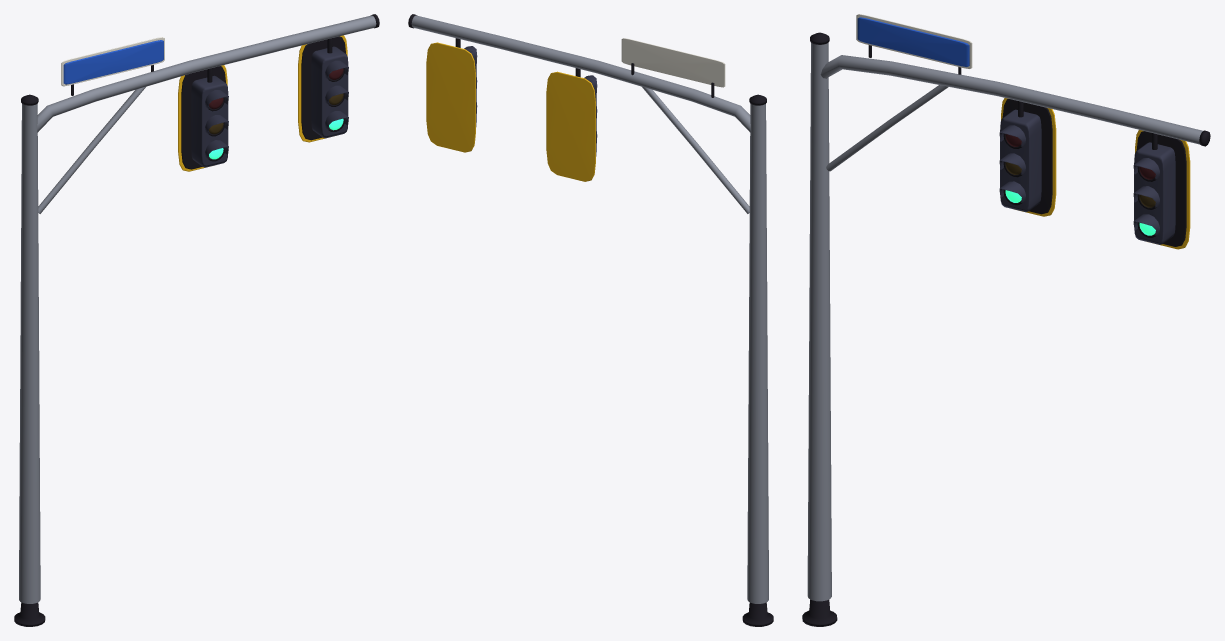
File: ampel_mast.glb
The picture shows the model from 3 angles, left to right: view 1: azimuth 30°, elevation 25°; view 2: azimuth 150°, elevation 25°; view 3: azimuth 330°, elevation 25°; orthographic projection. The views are drawn at different scales.
Parts seen in each view (by area): view 1: Pole_1, Arm, StreetSign_Face, Head2_Housing, Head1_Housing, Head2_Backplate, Head1_Backplate, Strut, StreetSign_Border, PoleBase; view 2: Pole_1, Head1_BackBorder, Head2_BackBorder, Arm, StreetSign_Border, Strut, PoleBase; view 3: Pole_1, Arm, StreetSign_Face, Head2_Housing, Head1_Housing, Head2_Backplate, Head1_Backplate, Strut, StreetSign_Border, PoleBase, Head2_BackBorder, Head1_BackBorder.
Boxes of the visible parts, x1,y1,x2,y2 form: Pole_1: (19, 104, 40, 603); Arm: (37, 15, 376, 132); StreetSign_Face: (63, 40, 163, 84); Head2_Housing: (311, 46, 348, 138); Head1_Housing: (191, 75, 228, 167); Head2_Backplate: (301, 36, 345, 140); Head1_Backplate: (181, 66, 225, 169); Strut: (38, 86, 145, 213); StreetSign_Border: (61, 37, 164, 86); PoleBase: (14, 602, 45, 626); Pole_1: (747, 104, 768, 603); Head1_BackBorder: (546, 71, 595, 181); Head2_BackBorder: (426, 42, 475, 152); Arm: (411, 15, 750, 132); StreetSign_Border: (621, 38, 725, 87); Strut: (642, 86, 749, 213); PoleBase: (742, 602, 773, 626); Pole_1: (807, 43, 831, 601); Arm: (820, 55, 1202, 144); StreetSign_Face: (857, 17, 969, 66); Head2_Housing: (1134, 142, 1175, 244); Head1_Housing: (1000, 109, 1041, 212); Head2_Backplate: (1136, 131, 1186, 246); Head1_Backplate: (1002, 99, 1052, 214); Strut: (826, 85, 948, 171); StreetSign_Border: (856, 14, 972, 68); PoleBase: (802, 599, 837, 626); Head2_BackBorder: (1135, 130, 1190, 249); Head1_BackBorder: (1001, 98, 1056, 216).
Bounding box in the file's own units: 4.52 × 6.57 × 0.486.
